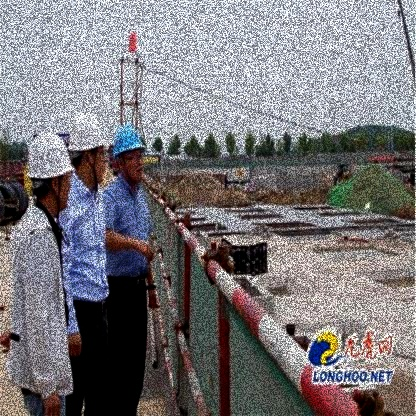blue: (111, 121, 148, 166)
white: (24, 128, 77, 185), (66, 111, 105, 152)
